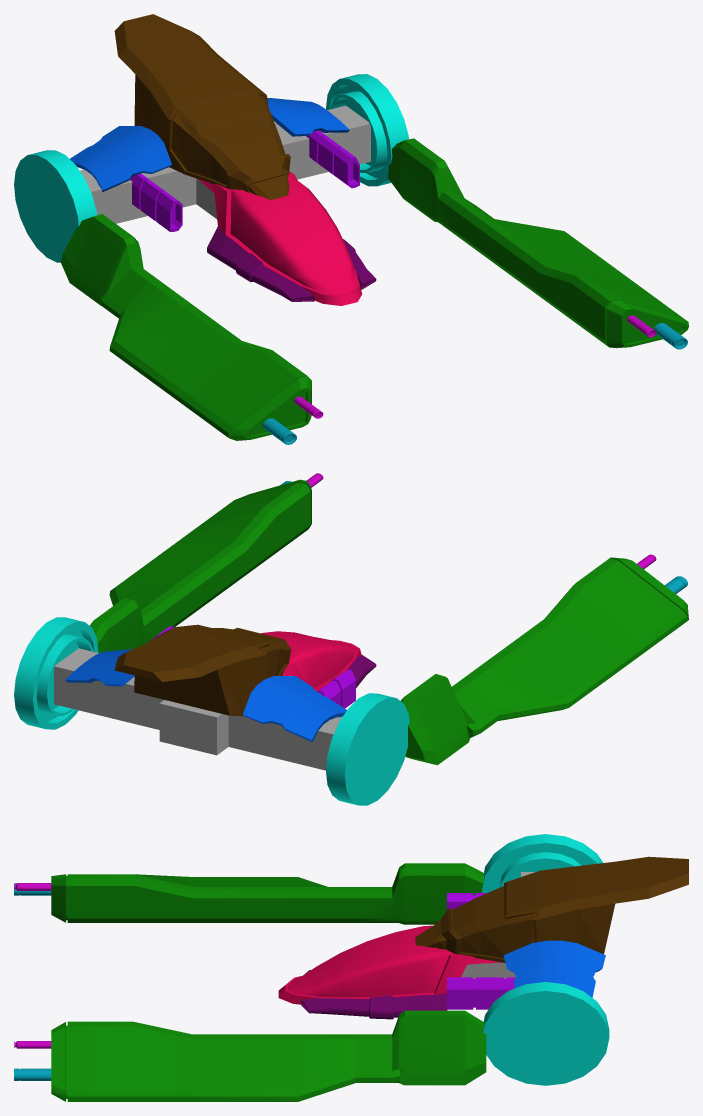
The model's file is nave3.fbx.
3 renders of one model, top to bottom at view 1: azimuth 30°, elevation 25°; view 2: azimuth 150°, elevation 25°; view 3: azimuth 270°, elevation 25°, orthographic. The views are drawn at different scales.
Parts seen in each view (by area): view 1: polySurface36, pCube11, polySurface47, pCube12, polySurface54, pCube13, polySurface49, polySurface44, polySurface35, polySurface41, polySurface55, polySurface40; view 2: polySurface36, polySurface47, pCube11, pCube13, polySurface54, polySurface49, polySurface44, pCube12, polySurface41, polySurface55; view 3: polySurface47, polySurface36, pCube11, polySurface49, pCube12, polySurface41, polySurface54, polySurface39, polySurface40, pCube13, polySurface38.
Boxes of the visible parts, <box> form: polySurface36: <box>60,214,311,440</box>; pCube11: <box>114,14,290,199</box>; polySurface47: <box>388,138,688,348</box>; pCube12: <box>198,171,361,305</box>; polySurface54: <box>14,150,96,262</box>; pCube13: <box>80,105,370,223</box>; polySurface49: <box>326,74,408,186</box>; polySurface44: <box>70,126,171,191</box>; polySurface35: <box>207,226,314,301</box>; polySurface41: <box>267,98,349,136</box>; polySurface55: <box>130,173,182,231</box>; polySurface40: <box>306,130,359,188</box>; polySurface36: <box>401,557,688,765</box>; polySurface47: <box>90,479,311,653</box>; pCube11: <box>114,624,291,716</box>; pCube13: <box>54,648,342,770</box>; polySurface54: <box>326,693,409,805</box>; polySurface49: <box>14,617,98,729</box>; polySurface44: <box>243,676,346,741</box>; pCube12: <box>261,631,361,691</box>; polySurface41: <box>65,649,134,686</box>; polySurface55: <box>317,669,355,708</box>; polySurface47: <box>51,1010,486,1101</box>; polySurface36: <box>51,863,483,924</box>; pCube11: <box>415,856,688,962</box>; polySurface49: <box>483,982,609,1085</box>; pCube12: <box>278,925,501,1004</box>; polySurface41: <box>503,940,605,997</box>; polySurface54: <box>482,834,603,892</box>; polySurface39: <box>301,993,447,1019</box>; polySurface40: <box>447,977,515,1009</box>; pCube13: <box>461,872,535,978</box>; polySurface38: <box>14,1068,51,1080</box>.
Size of the model in its own units: 6.29 by 1.9 by 8.23.
